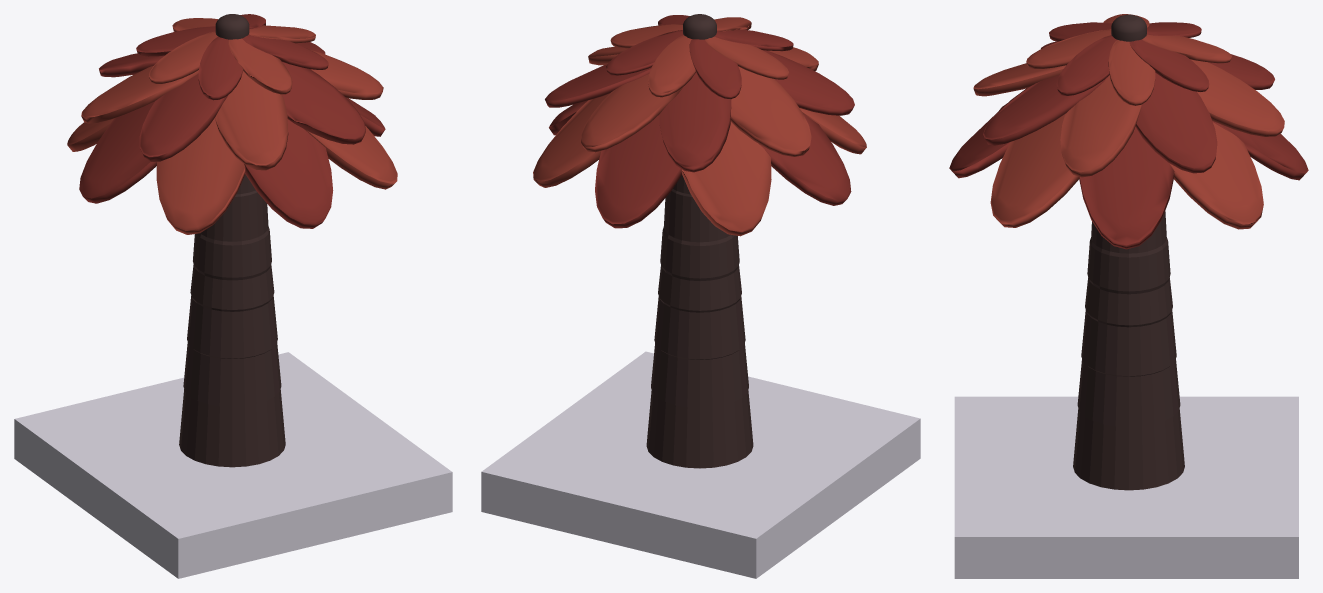
Rendered from lava_tree.fbx.
The picture shows the model from 3 angles, left to right: view 1: azimuth 30°, elevation 25°; view 2: azimuth 150°, elevation 25°; view 3: azimuth 270°, elevation 25°; orthographic projection. The views are drawn at different scales.
Visible parts, largest first — view 1: Cube.006, tree base, layer 1, layer 2, layer 3, tree top; view 2: Cube.006, tree base, layer 1, layer 2, layer 3, tree top; view 3: Cube.006, tree base, layer 1, layer 2, layer 3, tree top.
Part boxes in pixels (left/top/right/bottom): Cube.006: left=14, top=352, right=452, bottom=578; tree base: left=179, top=174, right=285, bottom=467; layer 1: left=67, top=98, right=397, bottom=234; layer 2: left=81, top=42, right=383, bottom=170; layer 3: left=136, top=14, right=328, bottom=100; tree top: left=215, top=14, right=249, bottom=39; Cube.006: left=481, top=351, right=920, bottom=578; tree base: left=646, top=175, right=753, bottom=468; layer 1: left=533, top=93, right=866, bottom=236; layer 2: left=545, top=46, right=854, bottom=172; layer 3: left=606, top=15, right=793, bottom=98; tree top: left=683, top=14, right=716, bottom=39; Cube.006: left=954, top=396, right=1298, bottom=578; tree base: left=1073, top=211, right=1184, bottom=490; layer 1: left=949, top=88, right=1308, bottom=249; layer 2: left=973, top=41, right=1284, bottom=177; layer 3: left=1026, top=14, right=1231, bottom=105; tree top: left=1111, top=14, right=1146, bottom=41.
Bounding box in the file's own units: 188 × 284 × 188.
